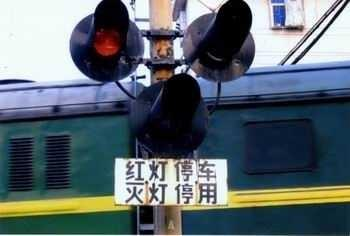red: (77, 10, 138, 75)
